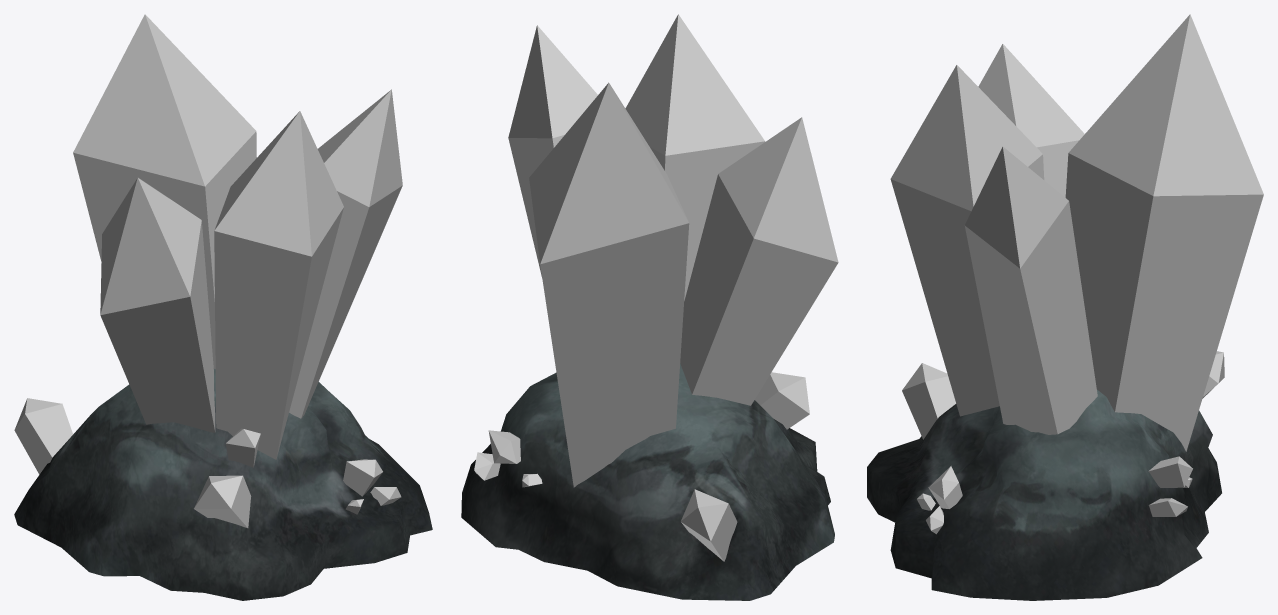
Rendered from Crystal.FBX.
3 views of the same model, side by side, from view 1: azimuth 30°, elevation 25°; view 2: azimuth 150°, elevation 25°; view 3: azimuth 270°, elevation 25° (orthographic). The views are drawn at different scales.
Parts seen in each view (by area): view 1: Crystals, Rock; view 2: Crystals, Rock; view 3: Crystals, Rock.
Part boxes in pixels (left/top/right/bottom): Crystals: left=14, top=14, right=402, bottom=528; Rock: left=14, top=369, right=432, bottom=600; Crystals: left=474, top=14, right=838, bottom=561; Rock: left=461, top=363, right=834, bottom=600; Crystals: left=890, top=14, right=1263, bottom=534; Rock: left=867, top=390, right=1221, bottom=600.
Size of the model in its own units: 53.28 by 72.5 by 53.08.
